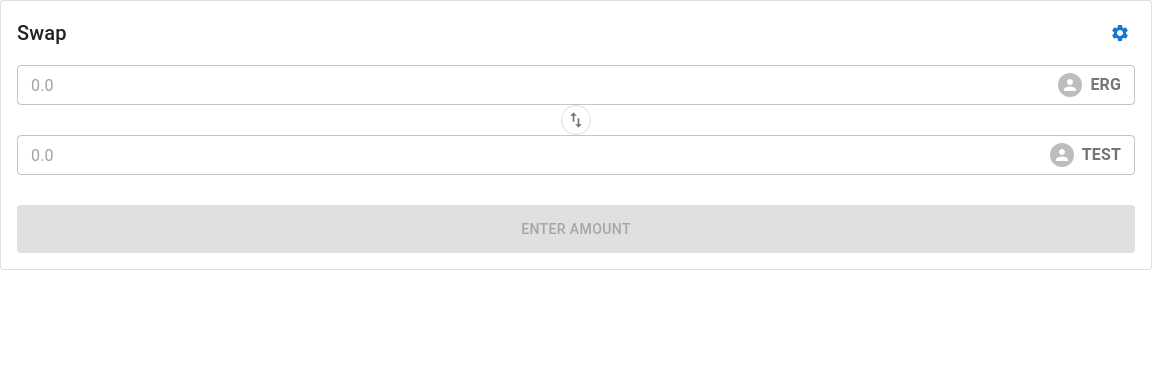
Test: SwapWidget › Input Mode (Forward Swap) › populates To field with output_amount from response
This screenshot has width=1152, height=387.
Expected: the heading "Swap" is shown, x1=17 y1=17 x2=67 y2=49
Step 1. Type "1" into the field with placeholder "0.0" next to "ERG" → point(538, 85), box x1=17 y1=65 x2=1058 y2=105
Wait 600 ms
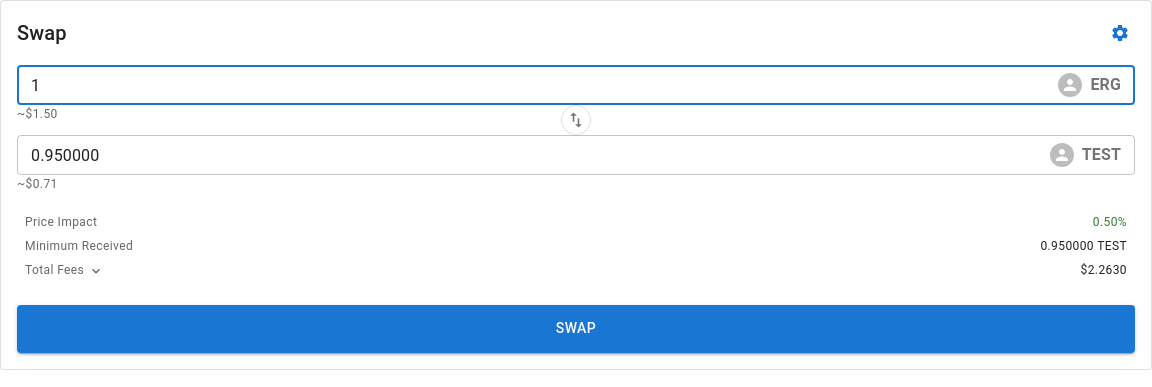
Now the 2nd field with placeholder "0.0" holds "0.950000", box x1=17 y1=135 x2=1050 y2=175
